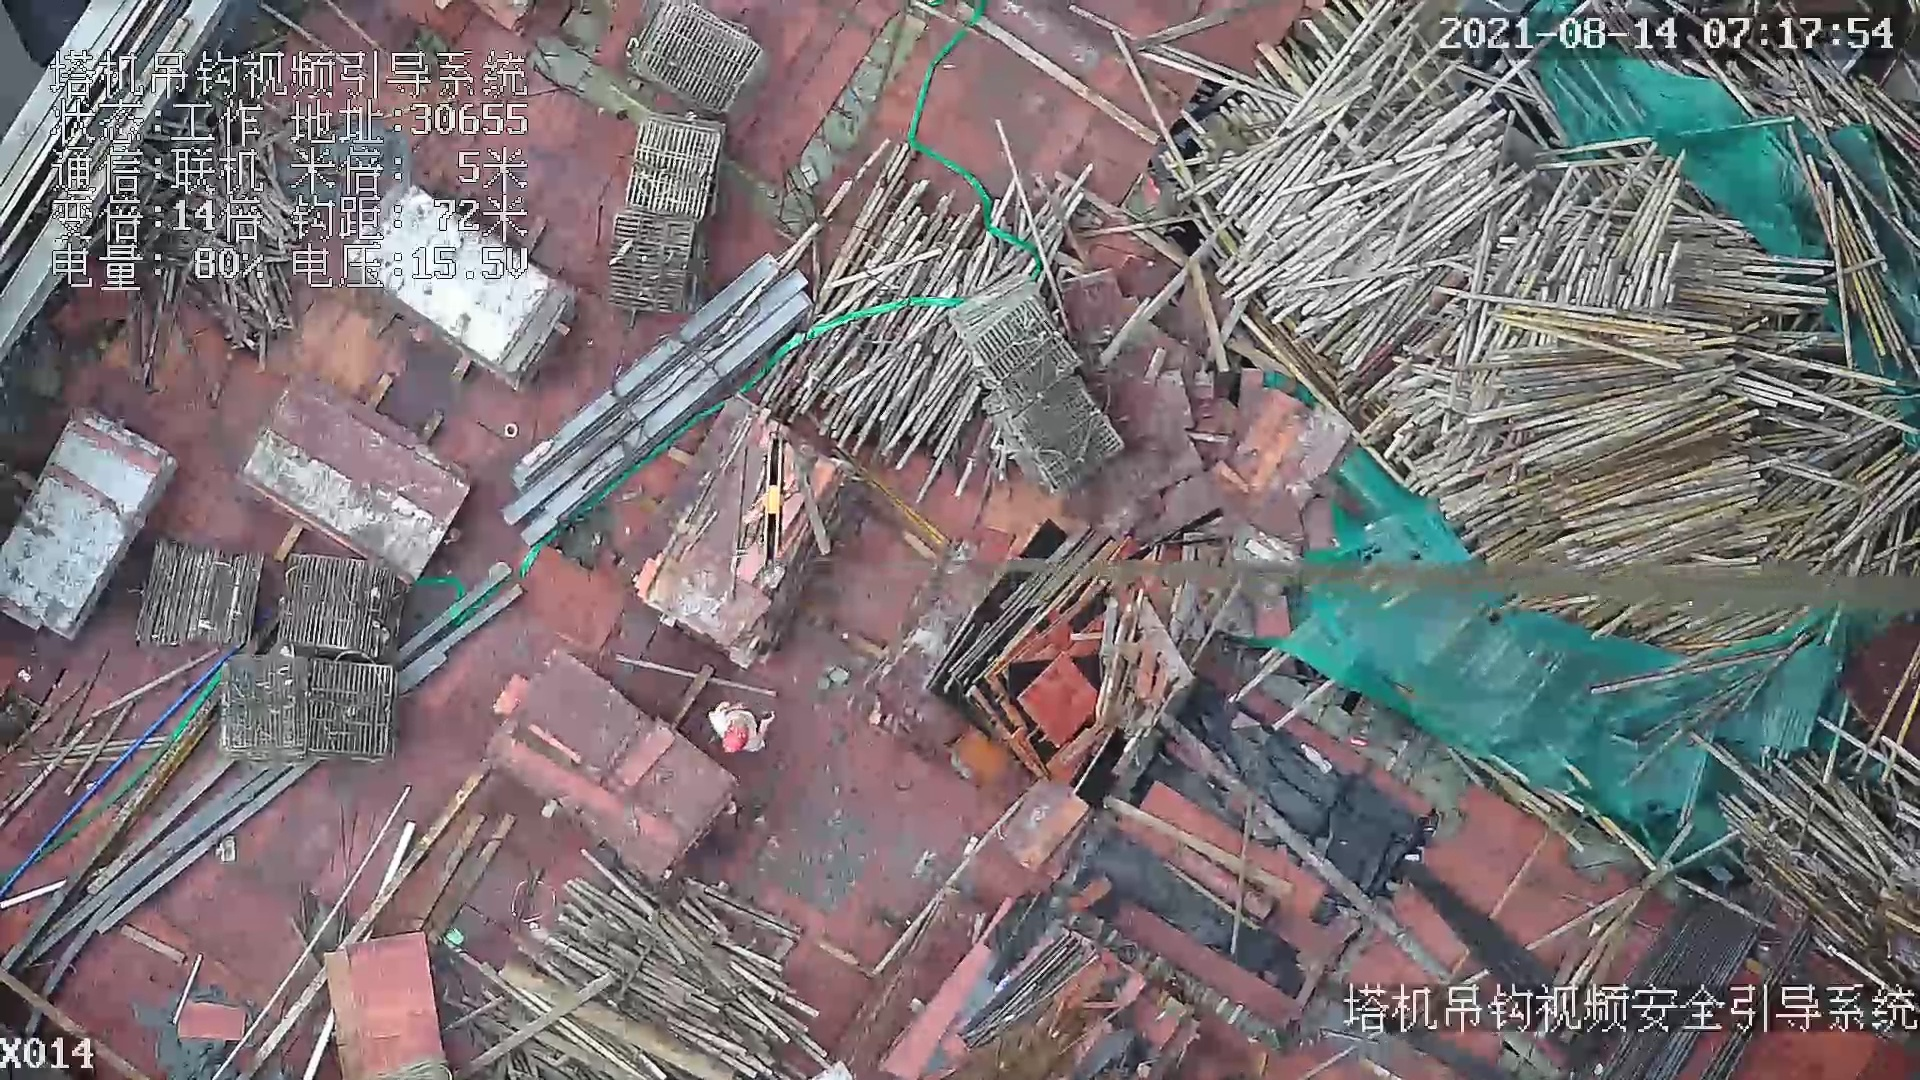helmet: (725, 717, 747, 754)
hook: (753, 423, 788, 576)
person: (709, 697, 774, 751)
